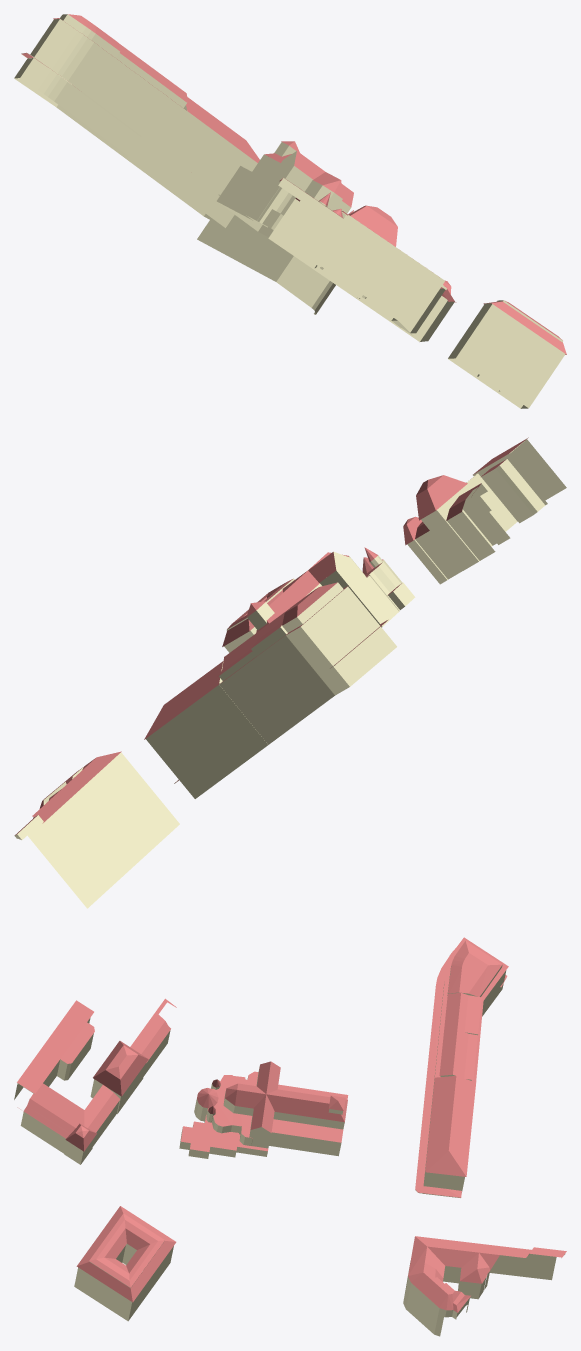
Rendered from tile_066.glb.
3 views of the same model, one above another, from view 1: azimuth 30°, elevation 25°; view 2: azimuth 150°, elevation 25°; view 3: azimuth 270°, elevation 25° (orthographic). The views are drawn at different scales.
Parts seen in each view (by area): view 1: Batched_Building_ID_2B749BEE-0B23-4FA6-9F2B-FD9F083E9089, Batched_Building_ID_1E21902B-DAF5-43A6-B93A-6D3EF4E58279; view 2: Batched_Building_ID_2B749BEE-0B23-4FA6-9F2B-FD9F083E9089, Batched_Building_ID_1E21902B-DAF5-43A6-B93A-6D3EF4E58279; view 3: Batched_Building_ID_1E21902B-DAF5-43A6-B93A-6D3EF4E58279, Batched_Building_ID_2B749BEE-0B23-4FA6-9F2B-FD9F083E9089.
Part boxes in pixels (x1,y1,x2,y2): Batched_Building_ID_2B749BEE-0B23-4FA6-9F2B-FD9F083E9089: (14, 14, 565, 408); Batched_Building_ID_1E21902B-DAF5-43A6-B93A-6D3EF4E58279: (22, 14, 566, 354); Batched_Building_ID_2B749BEE-0B23-4FA6-9F2B-FD9F083E9089: (15, 439, 566, 908); Batched_Building_ID_1E21902B-DAF5-43A6-B93A-6D3EF4E58279: (14, 437, 528, 835); Batched_Building_ID_1E21902B-DAF5-43A6-B93A-6D3EF4E58279: (17, 937, 566, 1312); Batched_Building_ID_2B749BEE-0B23-4FA6-9F2B-FD9F083E9089: (14, 965, 564, 1336).
Size of the model in its own units: 134 by 126 by 212.
